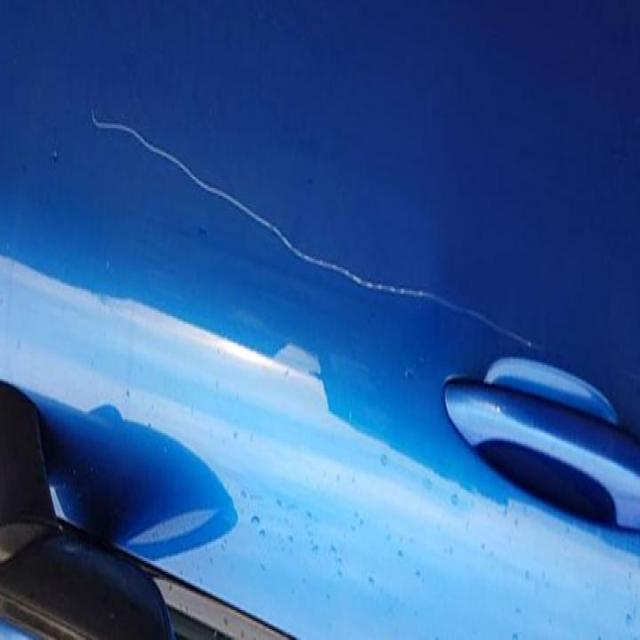scratch: (71, 76, 558, 394)
